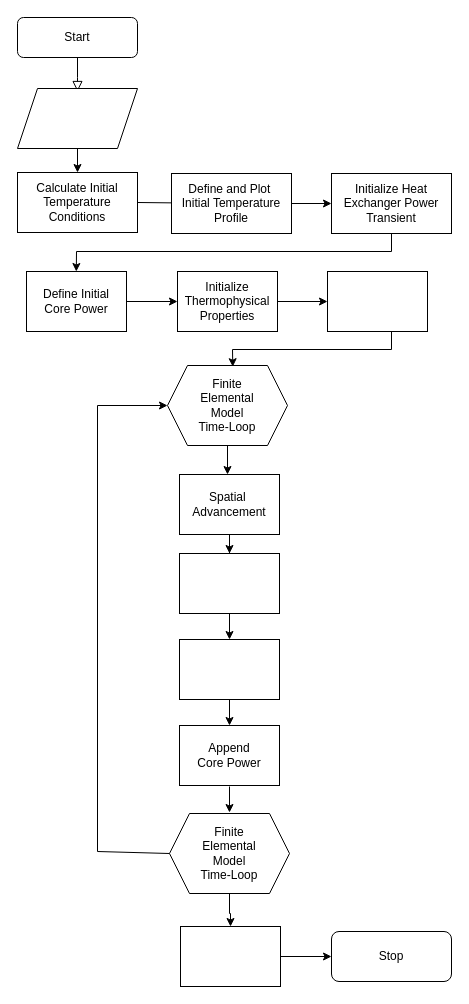
This 469x1004 diagram has some shape labels left out. The shapes that lost their labels are listed below. From the top down, each one's box as (x1, y1, x2, y2) in pixels, then its label:
(16, 88, 138, 148): Input Load Demand Information
(326, 270, 428, 332): Initialize Neutronics
(178, 552, 280, 614): Append Thermophysical Properties
(178, 638, 280, 700): Append Neutronics
(180, 926, 280, 986): Record/Plot Results
